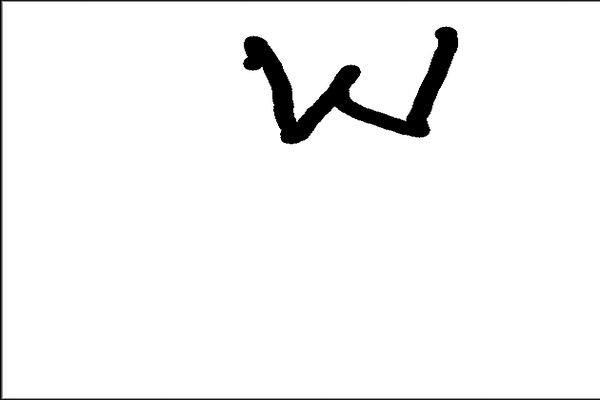w: (226, 16, 464, 159)
